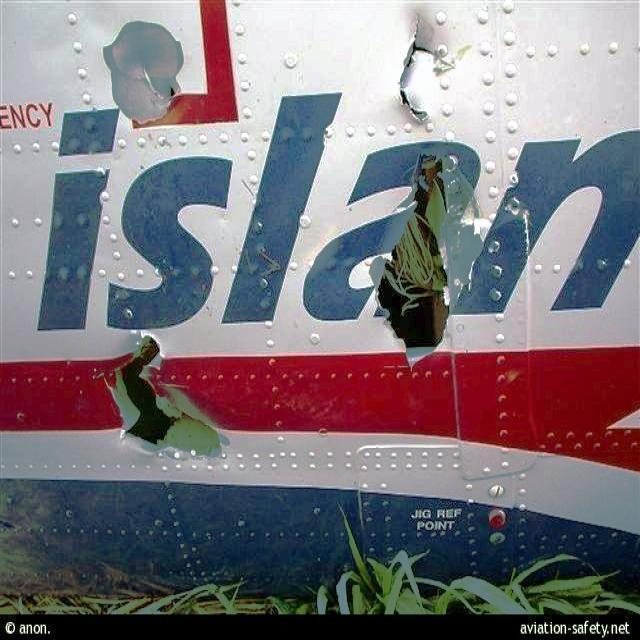crack: (378, 148, 462, 367), (107, 332, 223, 465), (395, 13, 455, 135), (144, 66, 182, 110)
